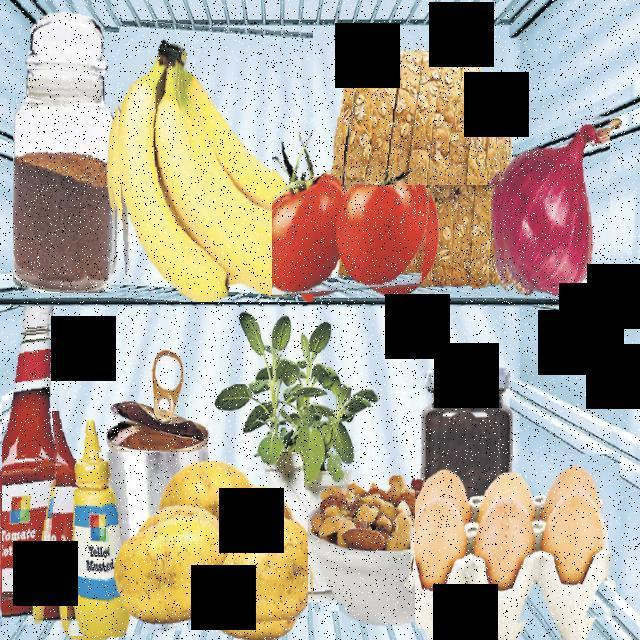banana: (112, 19, 313, 302)
bread: (344, 38, 510, 185)
egg: (415, 454, 621, 630)
ketchup: (2, 306, 72, 630)
mustard: (53, 411, 119, 636)
nuts: (304, 462, 429, 612)
onion: (494, 108, 610, 298)
potatoes: (98, 452, 308, 638)
sugar: (13, 0, 120, 293)
tomato: (272, 118, 440, 300)
